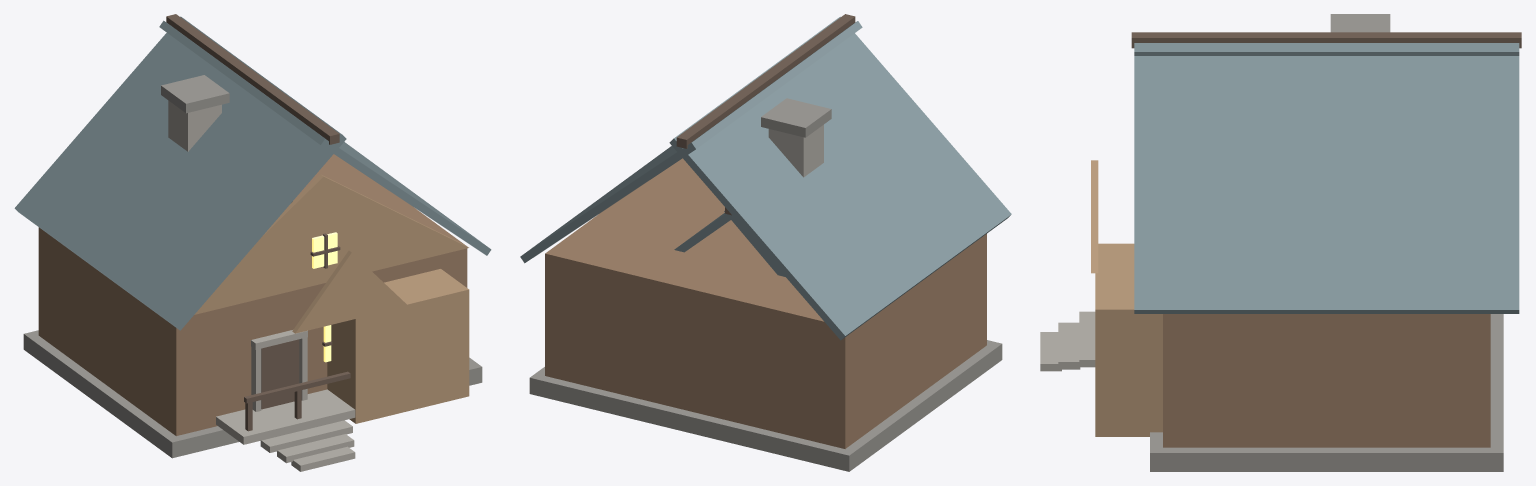
File: Midgard_Herbalist_House_V1_YUP.glb
3 renders of one model, left to right at view 1: azimuth 30°, elevation 25°; view 2: azimuth 150°, elevation 25°; view 3: azimuth 270°, elevation 25°, orthographic. The views are drawn at different scales.
Parts seen in each view (by area): view 1: Herbalist_Roof_L, Herbalist_Main, Herbalist_Wing, Herbalist_Gable, Herbalist_Foundation, Herbalist_Wing_Gable, Herbalist_Roof_R, Herbalist_Porch, Herbalist_Roof_Ridge, Herbalist_Door, Herbalist_ChimneyCap, Herbalist_Chimney (+8 smaller); view 2: Herbalist_Main, Herbalist_Roof_L, Herbalist_Foundation, Herbalist_Roof_R, Herbalist_Roof_Ridge, Herbalist_ChimneyCap, Herbalist_Chimney, Herbalist_Wing_Roof_R; view 3: Herbalist_Roof_R, Herbalist_Main, Herbalist_Wing, Herbalist_Foundation, Herbalist_Roof_L, Herbalist_Roof_Ridge, Herbalist_ChimneyCap, Herbalist_Step1, Herbalist_Step0, Herbalist_Wing_Gable, Herbalist_Step2.
Part boxes in pixels (bbox=[...]): Herbalist_Roof_L: bbox=[14, 16, 346, 330]; Herbalist_Main: bbox=[38, 154, 467, 435]; Herbalist_Wing: bbox=[327, 269, 469, 423]; Herbalist_Gable: bbox=[194, 174, 468, 314]; Herbalist_Foundation: bbox=[23, 330, 482, 458]; Herbalist_Wing_Gable: bbox=[292, 250, 407, 333]; Herbalist_Roof_R: bbox=[159, 20, 491, 255]; Herbalist_Porch: bbox=[216, 389, 355, 444]; Herbalist_Roof_Ridge: bbox=[166, 14, 339, 144]; Herbalist_Door: bbox=[261, 339, 299, 409]; Herbalist_ChimneyCap: bbox=[161, 75, 229, 113]; Herbalist_Chimney: bbox=[168, 100, 221, 151]; Herbalist_Main: bbox=[545, 158, 986, 448]; Herbalist_Roof_L: bbox=[669, 16, 1011, 340]; Herbalist_Foundation: bbox=[529, 340, 1002, 471]; Herbalist_Roof_R: bbox=[520, 21, 862, 263]; Herbalist_Roof_Ridge: bbox=[676, 14, 855, 148]; Herbalist_ChimneyCap: bbox=[761, 98, 831, 137]; Herbalist_Chimney: bbox=[768, 124, 823, 177]; Herbalist_Wing_Roof_R: bbox=[674, 213, 733, 252]; Herbalist_Roof_R: bbox=[1134, 56, 1519, 313]; Herbalist_Main: bbox=[1163, 314, 1490, 447]; Herbalist_Wing: bbox=[1095, 243, 1162, 436]; Herbalist_Foundation: bbox=[1150, 314, 1503, 471]; Herbalist_Roof_L: bbox=[1134, 43, 1519, 55]; Herbalist_Roof_Ridge: bbox=[1131, 32, 1521, 48]; Herbalist_ChimneyCap: bbox=[1330, 14, 1390, 32]; Herbalist_Step1: bbox=[1058, 322, 1080, 369]; Herbalist_Step0: bbox=[1079, 311, 1095, 367]; Herbalist_Wing_Gable: bbox=[1091, 160, 1098, 273]; Herbalist_Step2: bbox=[1040, 332, 1061, 371].
Bounding box in the file's own units: 8.35 × 7.35 × 9.26.
